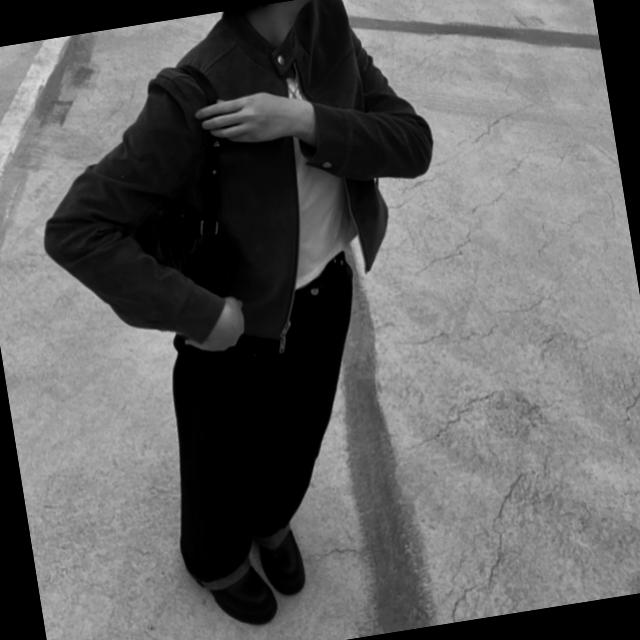denimpants: (142, 237, 400, 584)
jacket: (12, 0, 467, 378)
